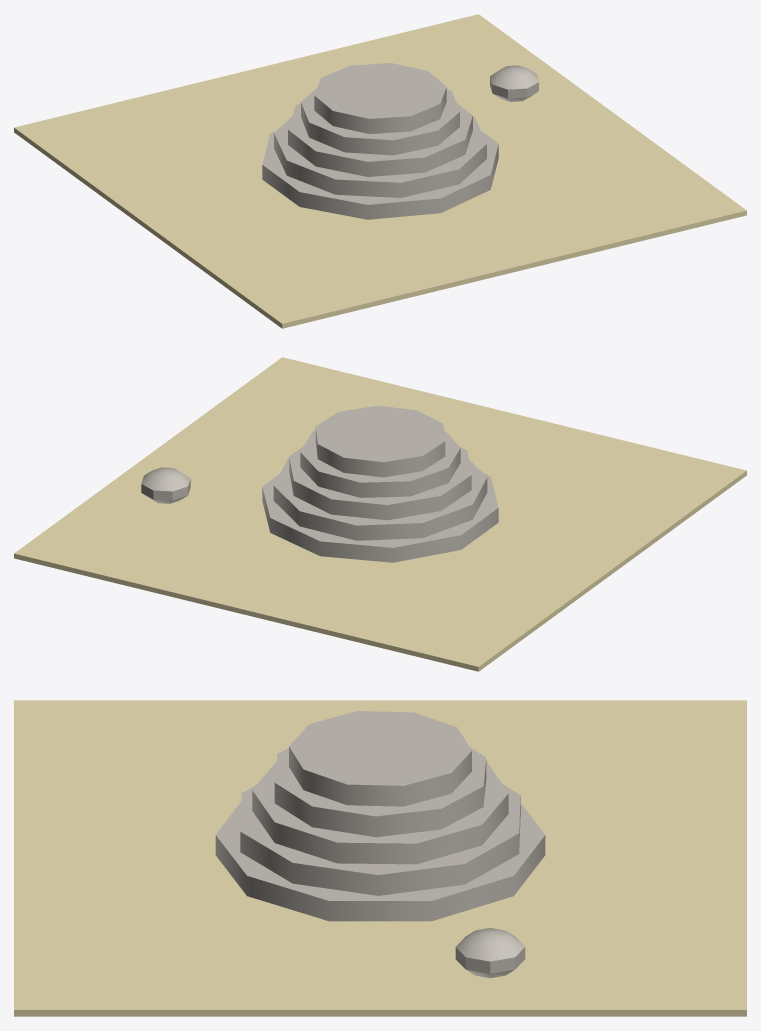
File: Cirak_Tiles.fbx
3 renders of one model, top to bottom at view 1: azimuth 30°, elevation 25°; view 2: azimuth 150°, elevation 25°; view 3: azimuth 270°, elevation 25°, orthographic. The views are drawn at different scales.
Parts seen in each view (by area): view 1: Cirak_Tiles; view 2: Cirak_Tiles; view 3: Cirak_Tiles.
Boxes of the visible parts, x1,y1,x2,y2 form: Cirak_Tiles: [14, 14, 746, 328]; Cirak_Tiles: [14, 357, 746, 671]; Cirak_Tiles: [14, 700, 746, 1016].
Size of the model in its own units: 0.8 by 0.1365 by 0.8.
